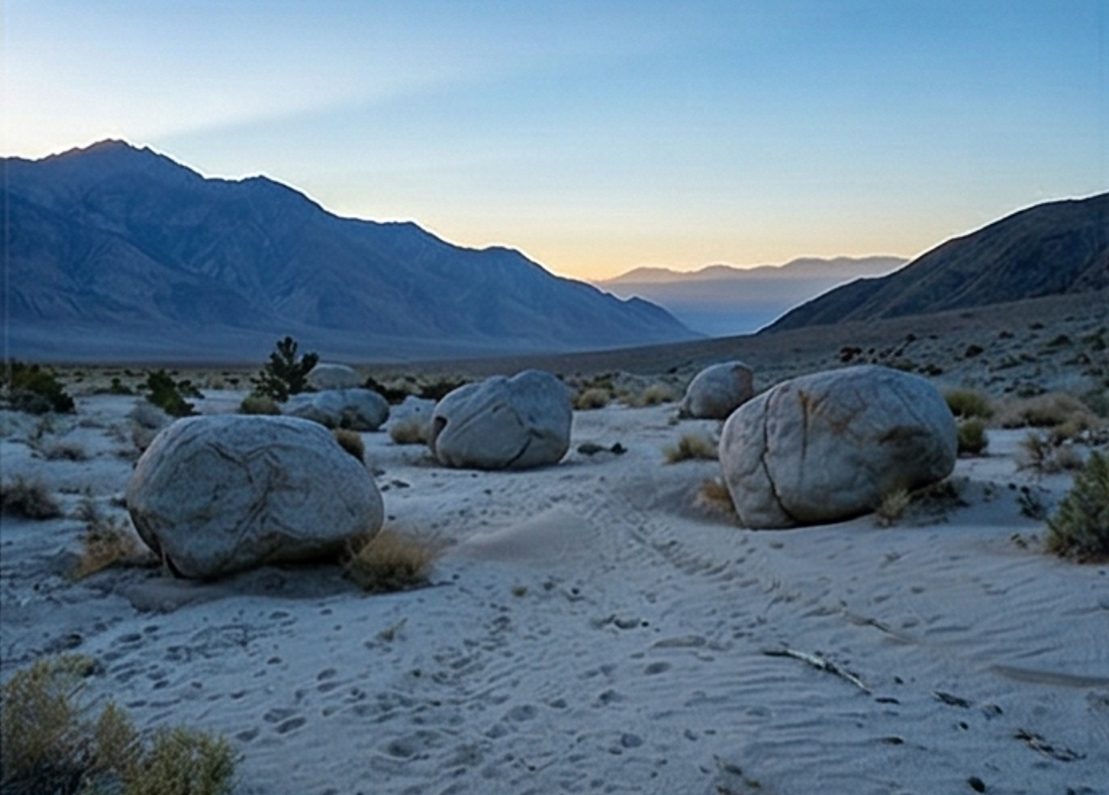rocks: (127, 389, 388, 578), (680, 362, 956, 528), (428, 370, 571, 469)
